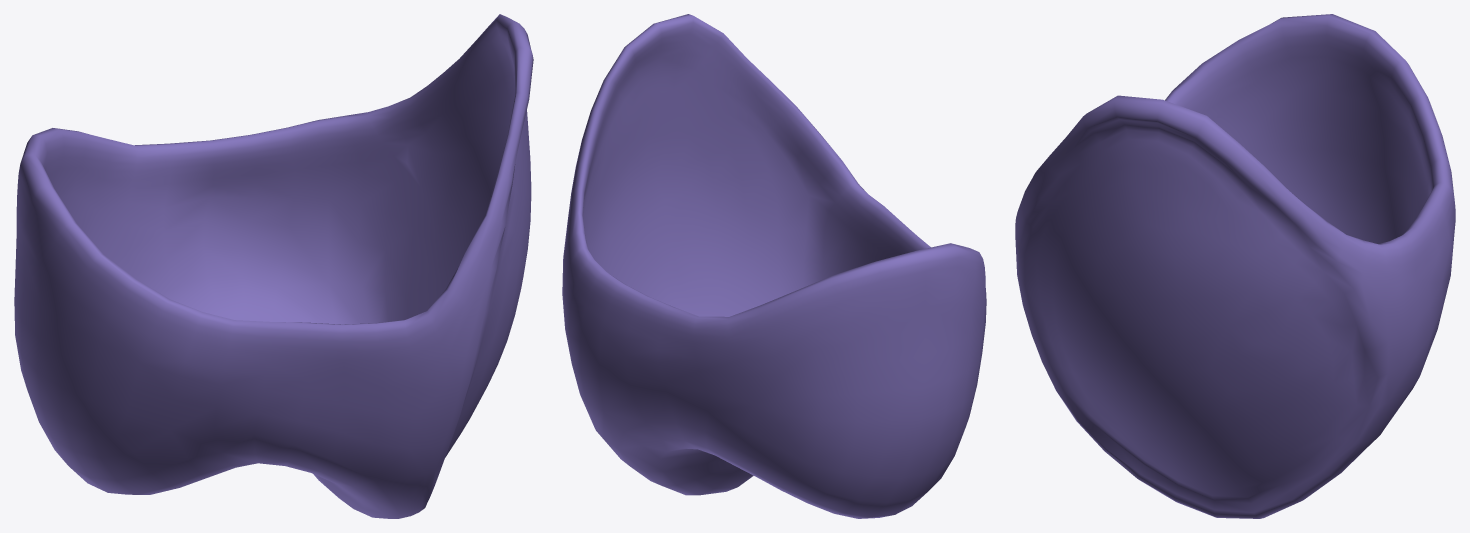
File: TR4_Enamel_Prongs.001.glb
The picture shows the model from 3 angles, left to right: view 1: azimuth 30°, elevation 25°; view 2: azimuth 150°, elevation 25°; view 3: azimuth 270°, elevation 25°; orthographic projection. The views are drawn at different scales.
Parts seen in each view (by area): view 1: TR4_Enamel_Prongs.001; view 2: TR4_Enamel_Prongs.001; view 3: TR4_Enamel_Prongs.001.
Part boxes in pixels (box(x1,y1,x2,y2)): TR4_Enamel_Prongs.001: box(14, 14, 533, 518); TR4_Enamel_Prongs.001: box(562, 14, 986, 518); TR4_Enamel_Prongs.001: box(1015, 14, 1455, 518).
Size of the model in its own units: 0.8599 by 0.9017 by 0.7819.
